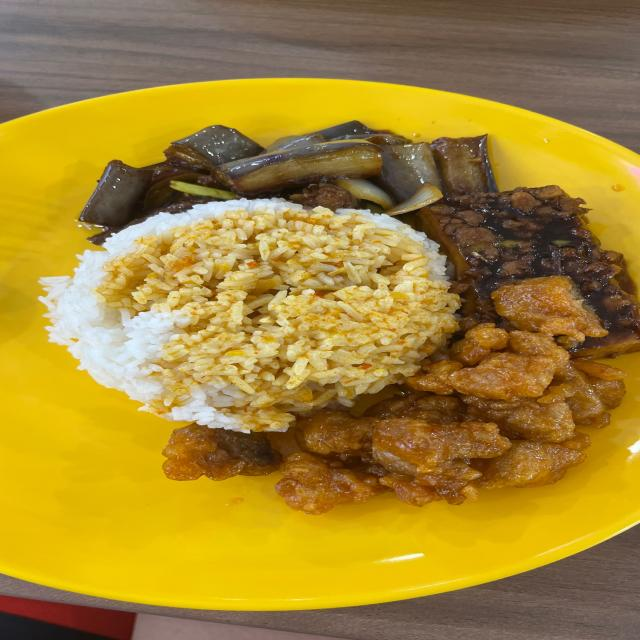Non green veg: (80, 121, 496, 228)
Pork: (162, 276, 625, 514)
Rice: (40, 199, 460, 434)
Tofu: (415, 185, 640, 359)
